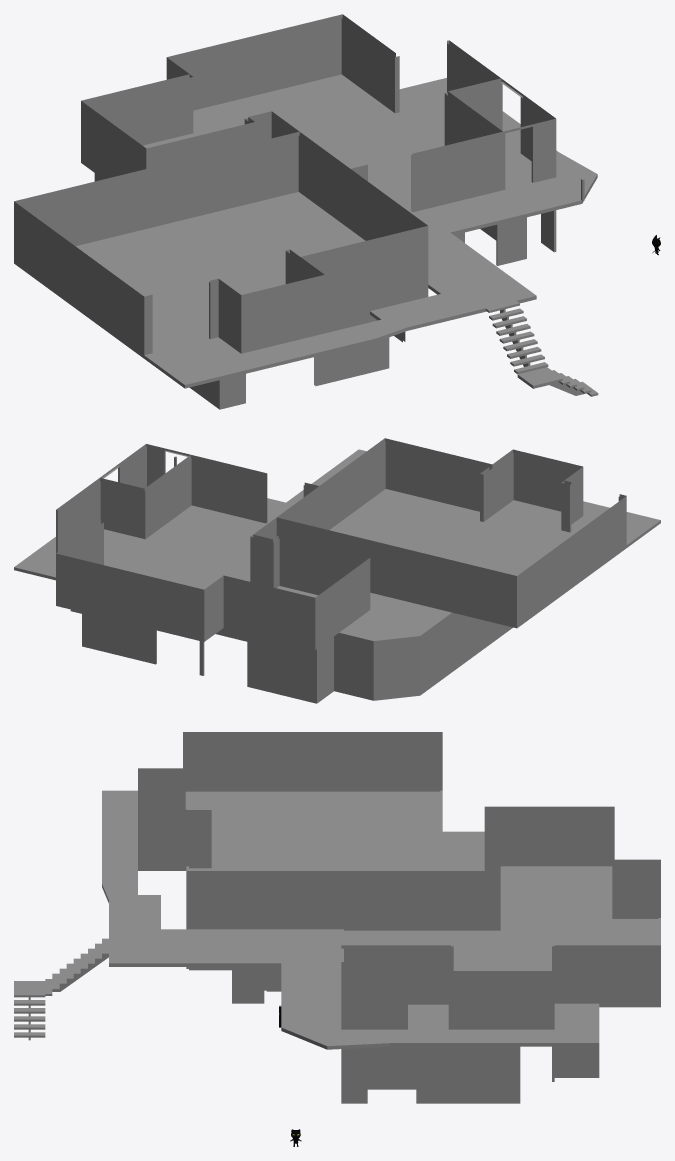
Rendered from All.FBX.
3 views of the same model, one above another, from view 1: azimuth 30°, elevation 25°; view 2: azimuth 150°, elevation 25°; view 3: azimuth 270°, elevation 25° (orthographic). The views are drawn at different scales.
Visible parts, largest first — view 1: 2F_Floor; view 2: 2F_Floor; view 3: 2F_Floor.
Part boxes in pixels (x1,y1,x2,y2): 2F_Floor: (14,14,660,409); 2F_Floor: (14,438,660,703); 2F_Floor: (14,732,660,1146).
Bounding box in the file's own units: 1006 × 231 × 987.
4 materials, 1 textured.
